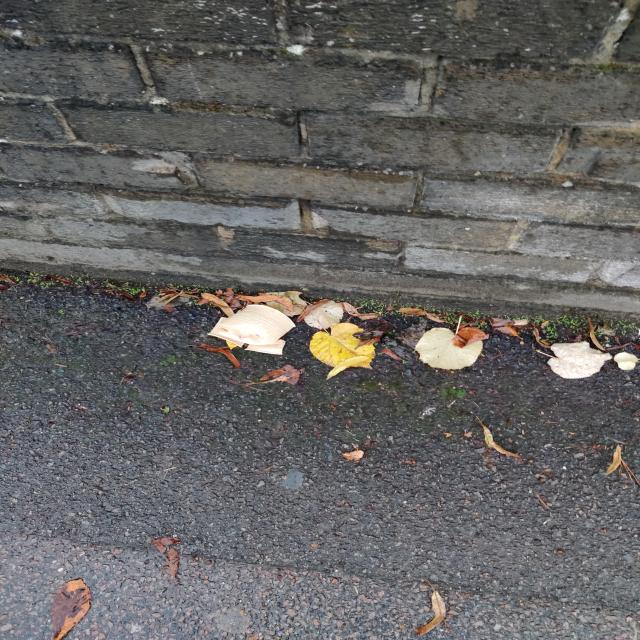litter: (201, 295, 301, 357)
